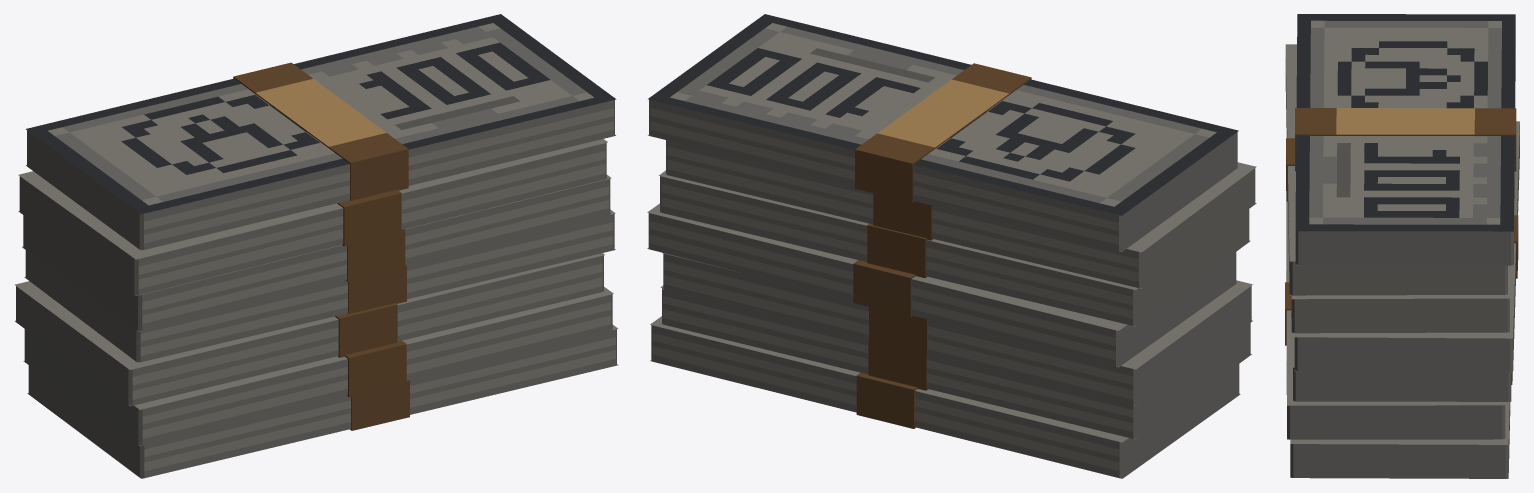
The model's file is moneystack.glb.
3 renders of one model, left to right at view 1: azimuth 30°, elevation 25°; view 2: azimuth 150°, elevation 25°; view 3: azimuth 270°, elevation 25°, orthographic. The views are drawn at different scales.
Visible parts, largest first — view 1: moneystack; view 2: moneystack; view 3: moneystack.
Part boxes in pixels (bbox=[...]): moneystack: bbox=[14, 14, 618, 478]; moneystack: bbox=[647, 14, 1256, 478]; moneystack: bbox=[1285, 14, 1519, 478].
Bounding box in the file's own units: 0.1608 × 0.0837 × 0.0713.
